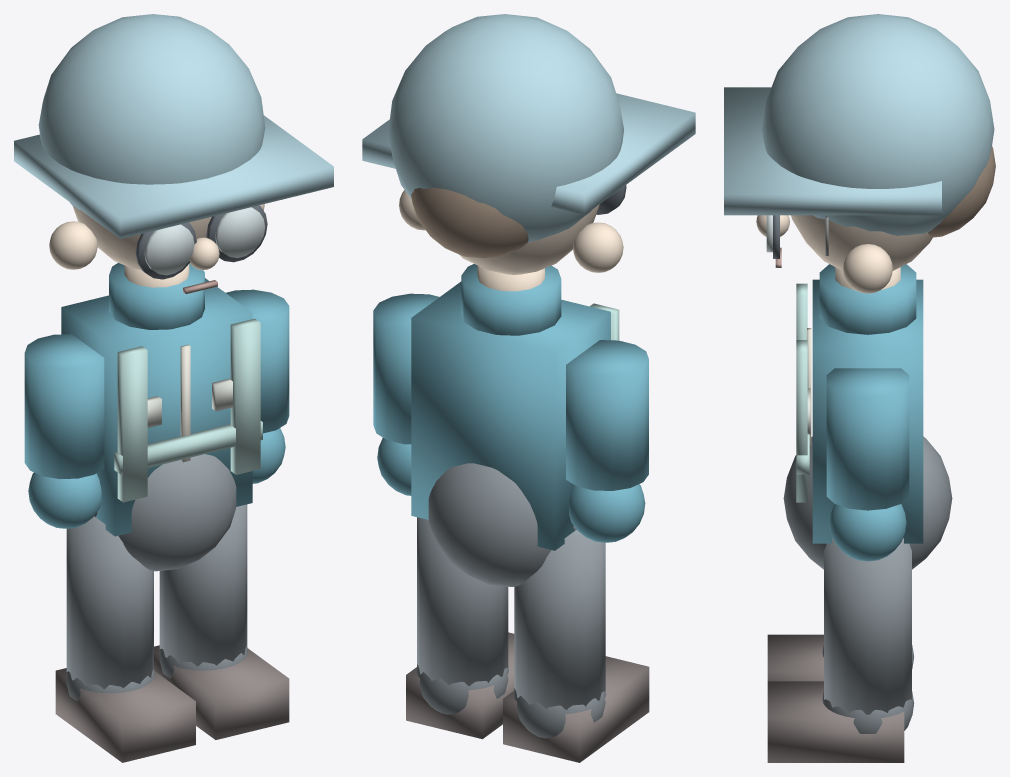
The model's file is mercy_person_01.glb.
3 views of the same model, side by side, from view 1: azimuth 30°, elevation 25°; view 2: azimuth 150°, elevation 25°; view 3: azimuth 270°, elevation 25° (orthographic). The views are drawn at different scales.
Parts seen in each view (by area): view 1: SkinClothing_10, SkinClothing_0, Arm_Left, Leg_Left, SkinClothing_5, Leg_Right, SkinClothing_1, Boot_Left, Boot_Right, Arm_Right, SkinClothing_2, SkinClothing_7 (+3 smaller); view 2: SkinClothing_10, SkinClothing_0, Leg_Left, Arm_Left, Leg_Right, SkinClothing_1, Arm_Right, Boot_Left, SkinClothing_2, SkinClothing_9, Boot_Right; view 3: SkinClothing_10, SkinClothing_0, Arm_Right, Leg_Right, Boot_Right, SkinClothing_2, SkinClothing_1, Boot_Left, SkinClothing_5, SkinClothing_9.
Part boxes in pixels (box(x1,y1,x2,y2)): SkinClothing_10: box(14, 14, 333, 238); SkinClothing_0: box(61, 263, 252, 536); Arm_Left: box(24, 334, 104, 528); Leg_Left: box(66, 516, 154, 701); SkinClothing_5: box(114, 318, 262, 502); Leg_Right: box(159, 504, 247, 678); SkinClothing_1: box(94, 454, 236, 571); Boot_Left: box(55, 668, 195, 762); Boot_Right: box(154, 645, 289, 739); Arm_Right: box(225, 289, 289, 483); SkinClothing_2: box(49, 204, 264, 287); SkinClothing_7: box(144, 207, 264, 275); SkinClothing_10: box(362, 14, 695, 242); SkinClothing_0: box(411, 264, 610, 550); Leg_Left: box(513, 530, 605, 738); Arm_Left: box(566, 340, 648, 542); Leg_Right: box(416, 517, 508, 714); SkinClothing_1: box(428, 463, 576, 586); Arm_Right: box(373, 293, 439, 495); Boot_Left: box(503, 656, 649, 762); SkinClothing_2: box(399, 190, 623, 291); SkinClothing_9: box(411, 187, 528, 258); Boot_Right: box(406, 632, 514, 739); SkinClothing_10: box(724, 14, 994, 235); SkinClothing_0: box(812, 264, 923, 543); Arm_Right: box(826, 368, 909, 561); Leg_Right: box(822, 538, 914, 733); Boot_Right: box(767, 681, 904, 762); SkinClothing_2: box(756, 215, 932, 293); SkinClothing_1: box(783, 436, 952, 569); Boot_Left: box(767, 634, 823, 681); SkinClothing_5: box(796, 283, 809, 502); SkinClothing_9: box(928, 146, 995, 237).
Size of the model in its own units: 1 by 2.58 by 0.9093.
